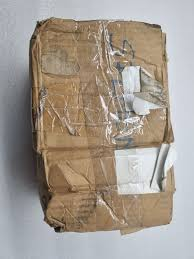damaged package: (37, 147, 70, 235), (163, 116, 181, 191)
